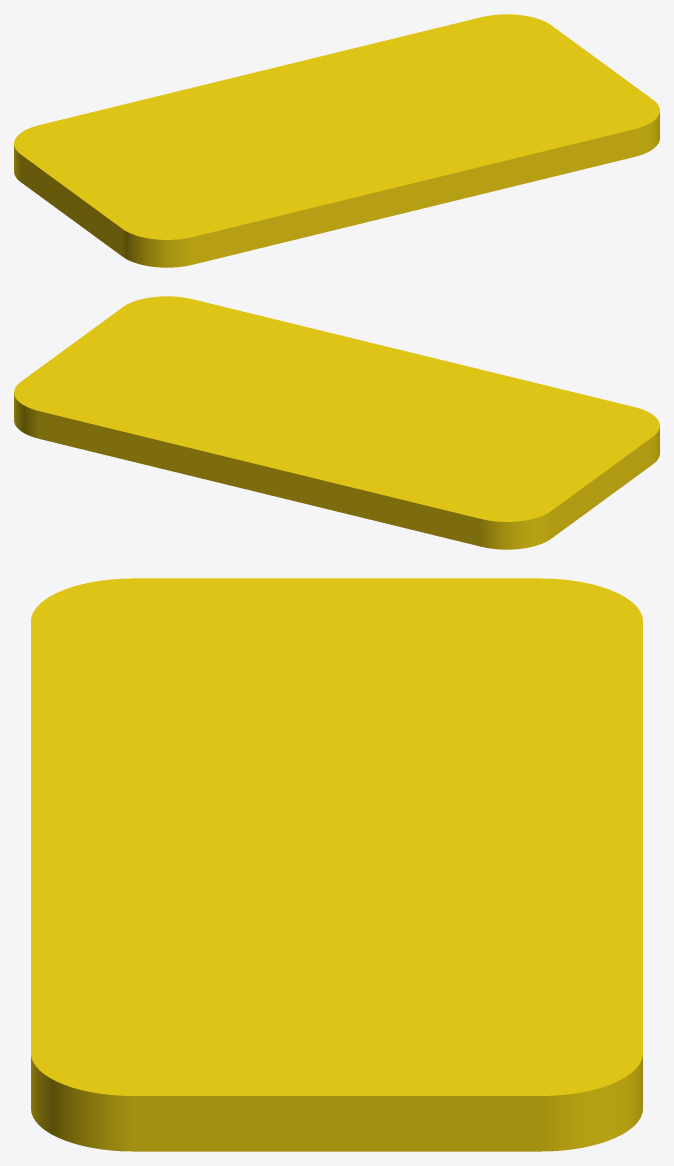
The model's file is example.gltf.
3 views of the same model, one above another, from view 1: azimuth 30°, elevation 25°; view 2: azimuth 150°, elevation 25°; view 3: azimuth 270°, elevation 25° (orthographic). The views are drawn at different scales.
Parts seen in each view (by area): view 1: Part 1; view 2: Part 1; view 3: Part 1.
Part boxes in pixels (x1,y1,x2,y2): Part 1: [14, 14, 659, 267]; Part 1: [14, 296, 659, 549]; Part 1: [31, 578, 642, 1151].
Bounding box in the file's own units: 0.06 × 0.003 × 0.03.
